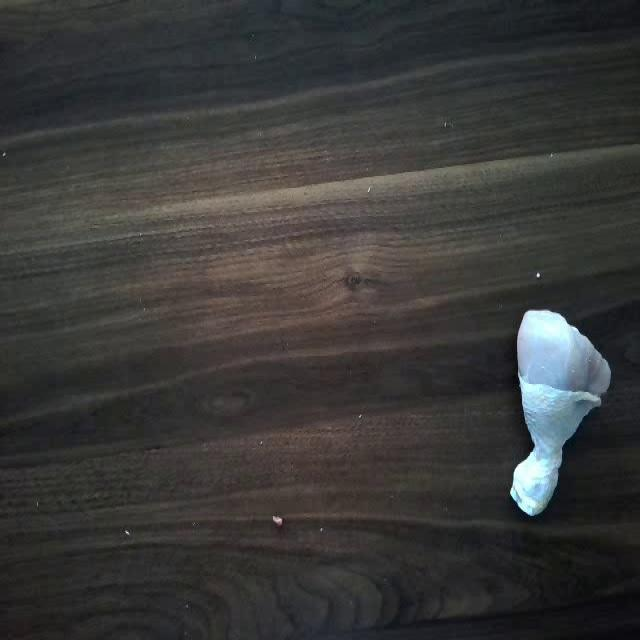leg: (512, 296, 610, 534)
